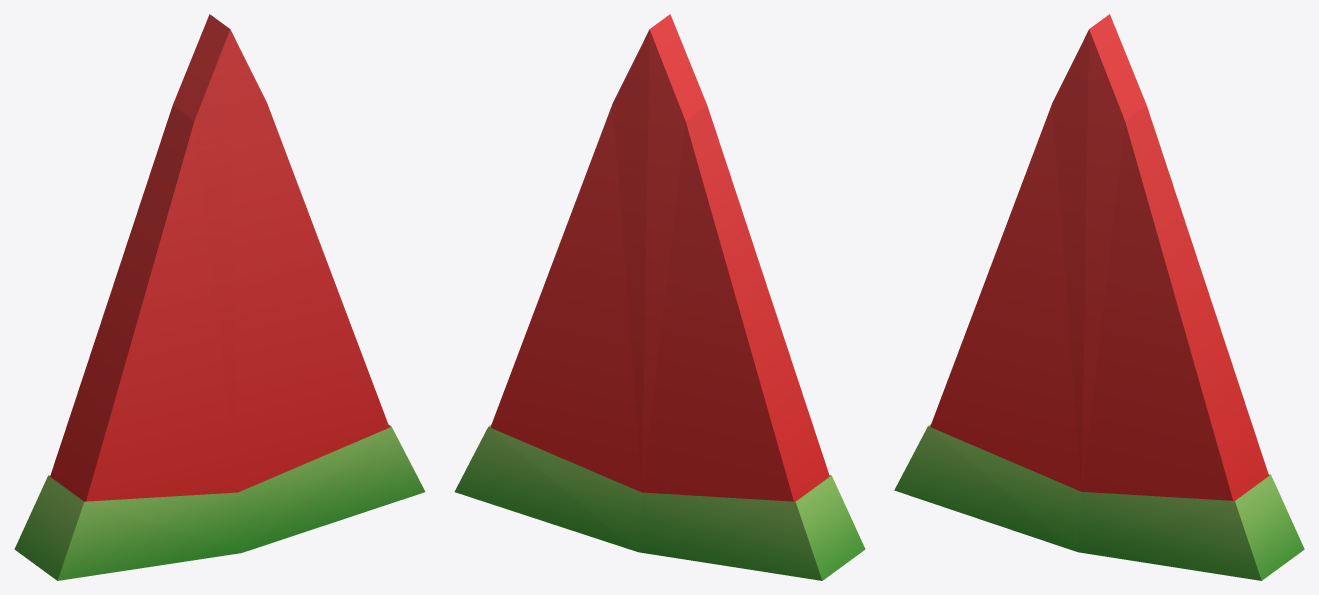
The model's file is watermelon_slice.fbx.
3 renders of one model, left to right at view 1: azimuth 30°, elevation 25°; view 2: azimuth 150°, elevation 25°; view 3: azimuth 330°, elevation 25°, orthographic.
Parts seen in each view (by area): view 1: watermelon_slice; view 2: watermelon_slice; view 3: watermelon_slice.
Part boxes in pixels (x1=…): watermelon_slice: x1=14, y1=14, x2=425, y2=580; watermelon_slice: x1=454, y1=14, x2=865, y2=580; watermelon_slice: x1=894, y1=14, x2=1304, y2=580.
Size of the model in its own units: 30.79 by 41.22 by 6.27.
